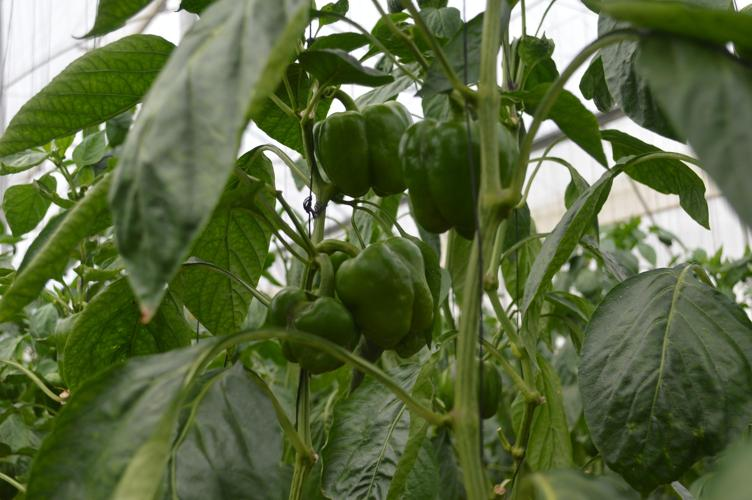BellPepper: (390, 113, 543, 239), (327, 231, 441, 348), (301, 94, 426, 200), (255, 279, 358, 374), (430, 354, 505, 426)
